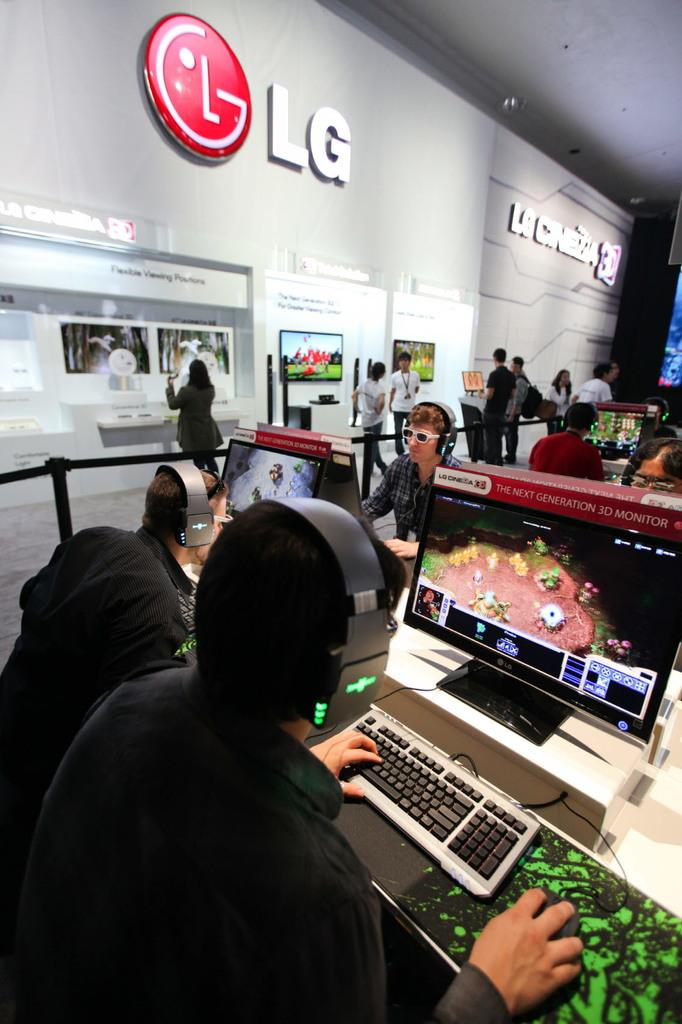Computer-keyboard: (340, 707, 545, 903), (178, 578, 197, 634)
